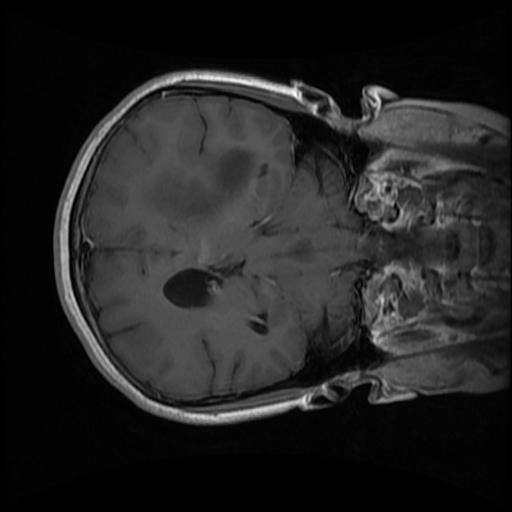glioma: (147, 149, 254, 223)
